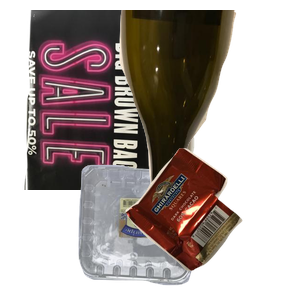glass: (117, 10, 300, 190)
paper: (22, 10, 225, 190)
plastic: (76, 162, 264, 300)
trash: (123, 145, 300, 300)
